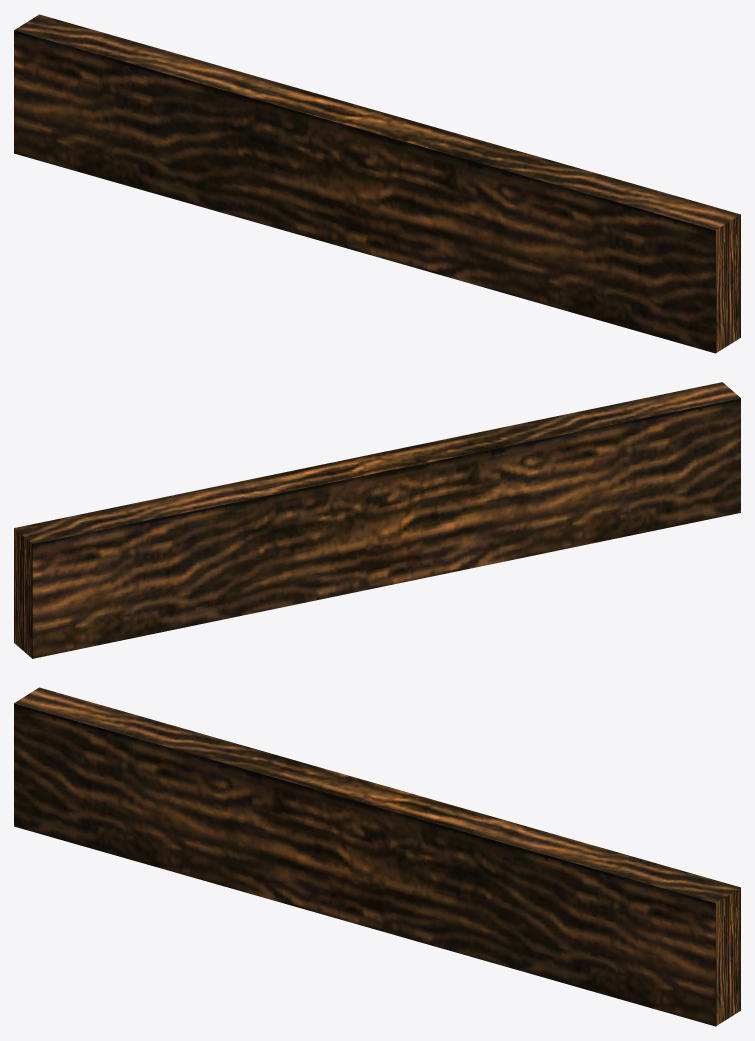
File: OVERHILL_A_01_BOX89.fbx
3 renders of one model, top to bottom at view 1: azimuth 90°, elevation 25°; view 2: azimuth 150°, elevation 25°; view 3: azimuth 270°, elevation 25°, orthographic. The views are drawn at different scales.
Visible parts, largest first — view 1: OVERHILL_A_01_BOX89; view 2: OVERHILL_A_01_BOX89; view 3: OVERHILL_A_01_BOX89.
Part boxes in pixels (<box>): OVERHILL_A_01_BOX89: <box>14,14,740,353</box>; OVERHILL_A_01_BOX89: <box>14,382,740,658</box>; OVERHILL_A_01_BOX89: <box>14,687,740,1026</box>.
Size of the model in its own units: 5636 by 1500 by 8021.
1 material, 1 textured.
